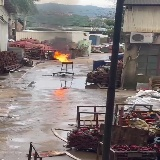fire: (53, 51, 72, 62)
